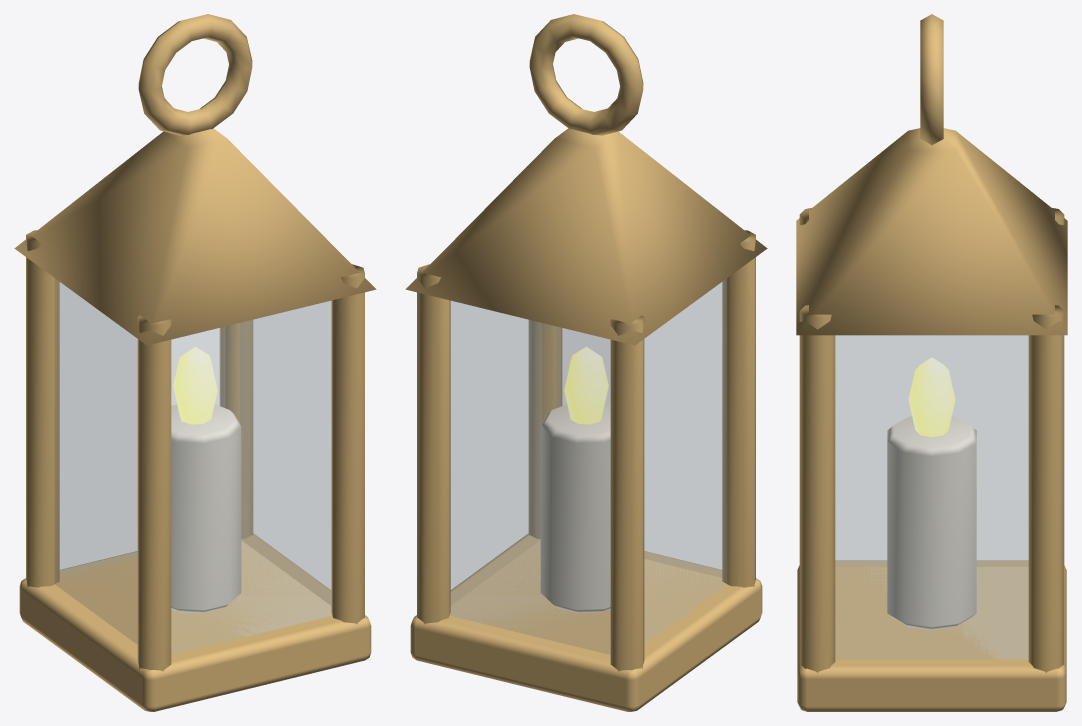
Rendered from Candle_Lantern.fbx.
3 views of the same model, side by side, from view 1: azimuth 30°, elevation 25°; view 2: azimuth 150°, elevation 25°; view 3: azimuth 270°, elevation 25° (orthographic). The views are drawn at different scales.
Visible parts, largest first — view 1: Candle_Lantern_Mesh; view 2: Candle_Lantern_Mesh; view 3: Candle_Lantern_Mesh.
Part boxes in pixels (left/top/right/bottom): Candle_Lantern_Mesh: left=14, top=14, right=376, bottom=711; Candle_Lantern_Mesh: left=405, top=14, right=767, bottom=711; Candle_Lantern_Mesh: left=796, top=14, right=1067, bottom=711.
Bounding box in the file's own units: 0.0806 × 0.2095 × 0.0806.
